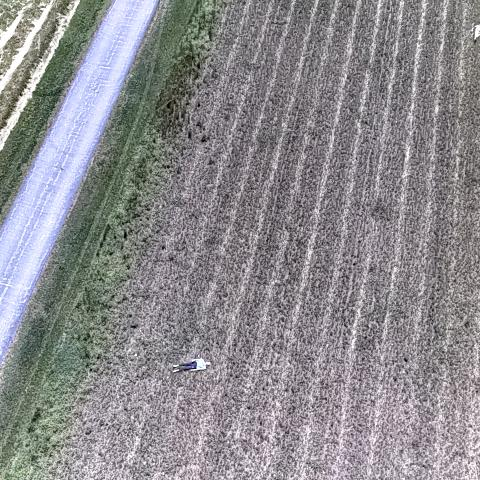person: (170, 356, 211, 377), (471, 19, 480, 43)
